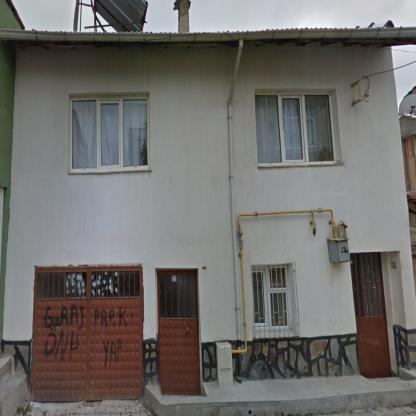door: (32, 268, 144, 399), (158, 270, 201, 394), (350, 254, 392, 376)
window: (69, 94, 150, 171), (256, 91, 336, 164), (252, 266, 290, 329)
